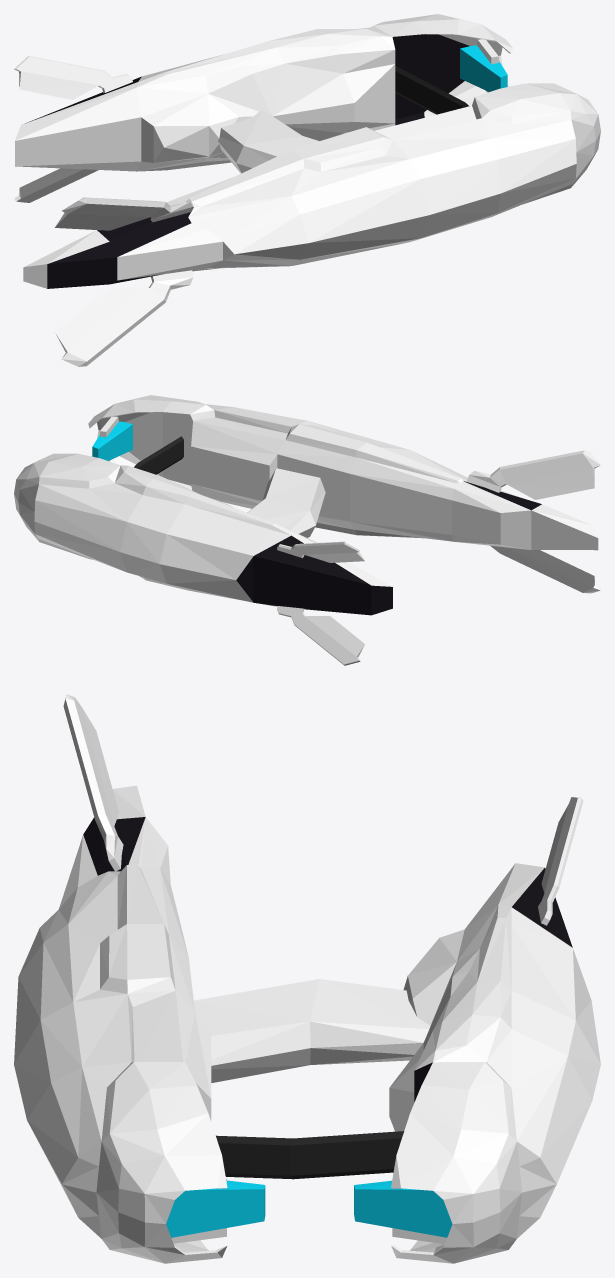
3 renders of one model, top to bottom at view 1: azimuth 30°, elevation 25°; view 2: azimuth 150°, elevation 25°; view 3: azimuth 270°, elevation 25°, orthographic. The views are drawn at different scales.
Parts seen in each view (by area): view 1: halo plasma rifle; view 2: halo plasma rifle; view 3: halo plasma rifle.
Part boxes in pixels (x1=…): halo plasma rifle: x1=14, y1=14, x2=600, y2=366; halo plasma rifle: x1=14, y1=395, x2=600, y2=665; halo plasma rifle: x1=14, y1=694, x2=600, y2=1263.
Bounding box in the file's own units: 21.51 × 5.94 × 12.47.
